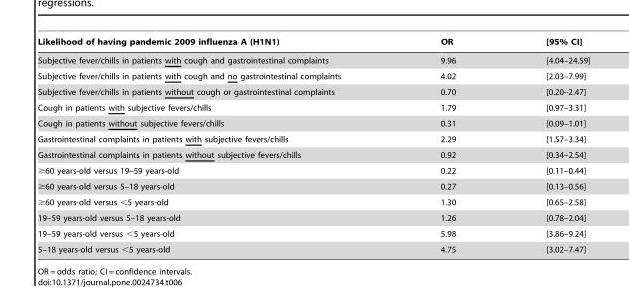table: (37, 37, 589, 253)
table column: (37, 37, 390, 253), (390, 37, 500, 253), (500, 37, 589, 253)
table column header: (37, 37, 589, 50)
table row: (37, 50, 589, 68), (37, 83, 589, 99), (37, 99, 589, 115), (37, 115, 589, 131), (37, 146, 589, 162), (37, 162, 589, 178), (37, 178, 589, 194), (37, 209, 589, 225), (37, 225, 589, 241), (37, 68, 589, 83), (37, 131, 589, 146), (37, 194, 589, 209), (37, 37, 589, 50), (37, 241, 589, 253)
